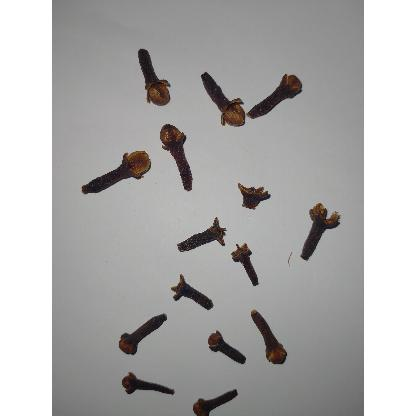baik: (81, 152, 151, 196), (246, 73, 301, 119), (200, 71, 244, 127), (159, 125, 192, 192), (137, 49, 171, 107)
buruk: (300, 204, 340, 262), (177, 219, 227, 254), (170, 275, 214, 312), (231, 243, 259, 287), (238, 183, 268, 209)
sedang: (251, 311, 288, 366), (119, 314, 167, 355), (121, 372, 175, 397), (207, 331, 246, 365), (193, 390, 238, 416)
